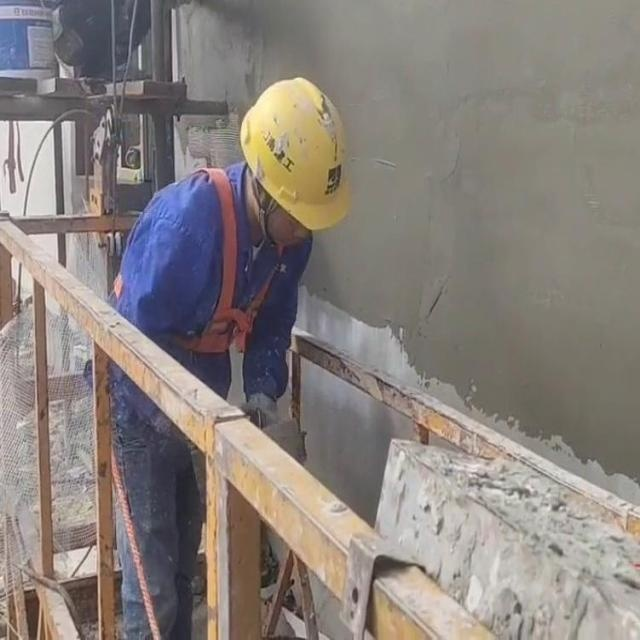Arnes_seguridad: (109, 162, 292, 362)
